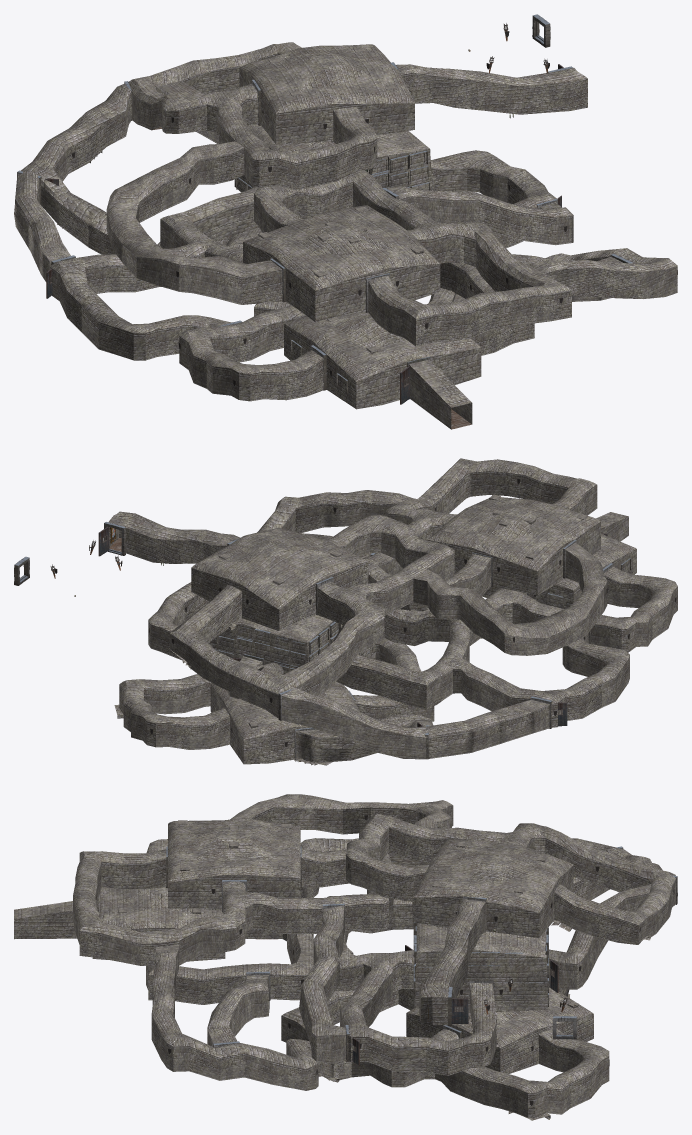
File: Catacombs.glb
The picture shows the model from 3 angles, top to bottom: view 1: azimuth 30°, elevation 25°; view 2: azimuth 150°, elevation 25°; view 3: azimuth 270°, elevation 25°; orthographic projection. The views are drawn at different scales.
Parts seen in each view (by area): view 1: Catacomb_Room_5, Catacomb_Room_3, Catacomb_Room_1, Tunnel_4, Catacomb_Room_2, Tunnel_1, Tunnel_2, LucyTunnel_, Tunnel_5, Tunnel_3, Tunnel_13, Entry_Shaft (+2 smaller); view 2: Catacomb_Room_3, Catacomb_Room_5, Catacomb_Room_4, Catacomb_Room_2, Catacomb_Room_1, Tunnel_4, Tunnel_2, Tunnel_1, Tunnel_13, Tunnel_3, LucyTunnel_, Entry_Shaft (+1 smaller); view 3: Catacomb_Room_5, Catacomb_Room_3, Catacomb_Room_2, Catacomb_Room_4, Catacomb_Room_1, Tunnel_3, Tunnel_4, Tunnel_5, LucyTunnel_, Tunnel_8, Tunnel_12, Entry_Shaft (+2 smaller).
Boxes of the visible parts, bbox=[...] form: Catacomb_Room_5: bbox=[243, 170, 571, 346]; Catacomb_Room_3: bbox=[128, 42, 414, 190]; Catacomb_Room_1: bbox=[179, 262, 534, 409]; Tunnel_4: bbox=[106, 141, 282, 304]; Catacomb_Room_2: bbox=[160, 124, 557, 262]; Tunnel_1: bbox=[50, 238, 231, 360]; Tunnel_2: bbox=[20, 83, 231, 254]; LucyTunnel_: bbox=[396, 64, 587, 114]; Tunnel_5: bbox=[386, 186, 573, 245]; Tunnel_3: bbox=[528, 248, 677, 298]; Tunnel_13: bbox=[14, 171, 70, 281]; Entry_Shaft: bbox=[409, 359, 472, 429]; Catacomb_Room_3: bbox=[169, 515, 454, 718]; Catacomb_Room_5: bbox=[363, 458, 600, 610]; Catacomb_Room_4: bbox=[119, 638, 434, 764]; Catacomb_Room_2: bbox=[148, 582, 479, 709]; Catacomb_Room_1: bbox=[415, 533, 677, 652]; Tunnel_4: bbox=[413, 542, 607, 655]; Tunnel_2: bbox=[282, 688, 432, 762]; Tunnel_1: bbox=[447, 632, 629, 727]; Tunnel_13: bbox=[425, 699, 550, 759]; Tunnel_3: bbox=[257, 490, 412, 533]; LucyTunnel_: bbox=[108, 511, 240, 563]; Entry_Shaft: bbox=[596, 512, 628, 541]; Catacomb_Room_5: bbox=[73, 818, 394, 969]; Catacomb_Room_3: bbox=[346, 814, 675, 944]; Catacomb_Room_2: bbox=[327, 896, 547, 1075]; Catacomb_Room_4: bbox=[281, 988, 609, 1117]; Catacomb_Room_1: bbox=[92, 839, 313, 1004]; Tunnel_3: bbox=[151, 950, 333, 1090]; Tunnel_4: bbox=[230, 794, 453, 834]; Tunnel_5: bbox=[299, 905, 345, 1063]; LucyTunnel_: bbox=[419, 899, 486, 1025]; Tunnel_8: bbox=[549, 884, 651, 989]; Tunnel_12: bbox=[207, 975, 269, 1046]; Entry_Shaft: bbox=[14, 901, 77, 939].
Size of the model in its own units: 26.98 by 9.8 by 30.05.
18 materials, 16 textured.
